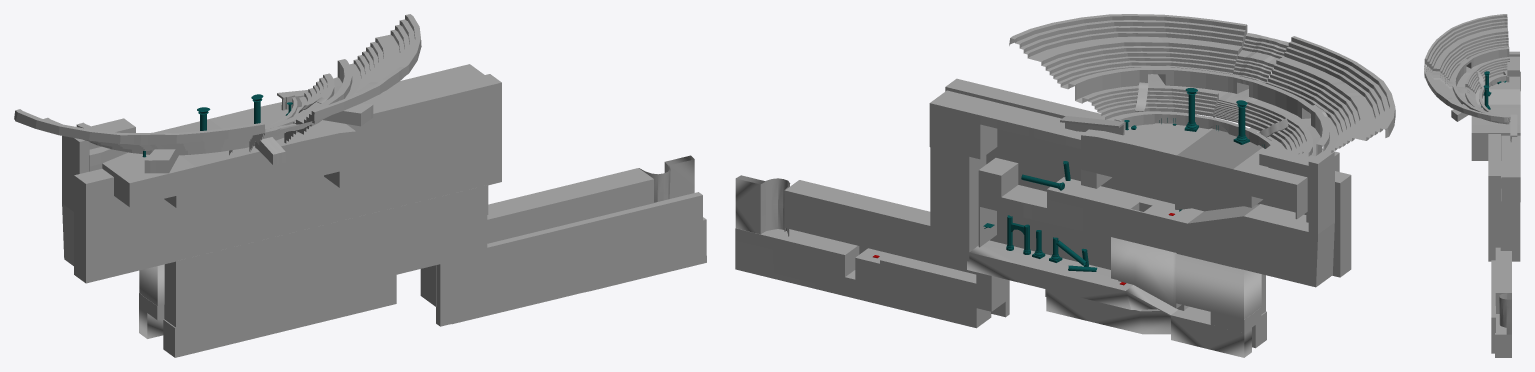
Rendered from Environment.fbx.
The picture shows the model from 3 angles, left to right: view 1: azimuth 30°, elevation 25°; view 2: azimuth 150°, elevation 25°; view 3: azimuth 270°, elevation 25°; orthographic projection. The views are drawn at different scales.
Visible parts, largest first — view 1: Cube22, Cube18, Cube4, Cube23, Cube31, Cube9, Cube3, Cube1, Cube21, Cube25, Cube14, Cube20 (+3 smaller); view 2: Cube31, Cube20, Cube23, Cube2, Cube22, Cube7, Cube3, Cube21, Cube6, Cube14, Cube18, Cube8 (+8 smaller); view 3: Cube31, Cube23, Cube21, Cube22, Cube6, Cube3, Cube2, Cube1, Cube4, Cube18, Cube26, Cube30 (+2 smaller).
Boxes of the visible parts, <box> form: Cube22: <box>74,74,501,283</box>; Cube18: <box>164,185,487,328</box>; Cube4: <box>436,192,702,326</box>; Cube23: <box>102,102,356,210</box>; Cube31: <box>14,14,421,173</box>; Cube9: <box>163,274,396,357</box>; Cube3: <box>487,168,653,243</box>; Cube1: <box>639,155,694,202</box>; Cube21: <box>361,64,484,103</box>; Cube25: <box>62,136,89,211</box>; Cube14: <box>139,264,164,306</box>; Cube20: <box>62,203,73,265</box>; Cube31: <box>1009,14,1395,156</box>; Cube20: <box>978,158,1334,287</box>; Cube23: <box>1081,113,1339,209</box>; Cube2: <box>735,228,991,328</box>; Cube22: <box>945,78,1351,277</box>; Cube7: <box>967,240,1251,357</box>; Cube3: <box>784,180,976,274</box>; Cube21: <box>929,90,1084,159</box>; Cube6: <box>930,147,986,261</box>; Cube14: <box>1175,253,1261,319</box>; Cube18: <box>990,211,1265,314</box>; Cube8: <box>1046,289,1210,334</box>; Cube31: <box>1424,14,1510,124</box>; Cube23: <box>1471,72,1520,160</box>; Cube21: <box>1501,135,1520,202</box>; Cube22: <box>1488,134,1500,229</box>; Cube6: <box>1500,191,1520,261</box>; Cube3: <box>1495,247,1511,313</box>; Cube2: <box>1495,314,1511,357</box>; Cube1: <box>1499,293,1511,334</box>; Cube4: <box>1491,260,1495,353</box>; Cube18: <box>1488,229,1500,261</box>; Cube26: <box>1507,56,1519,76</box>; Cube30: <box>1479,74,1510,119</box>.
Bounding box in the file's own units: 100482 × 43680 × 23075.
